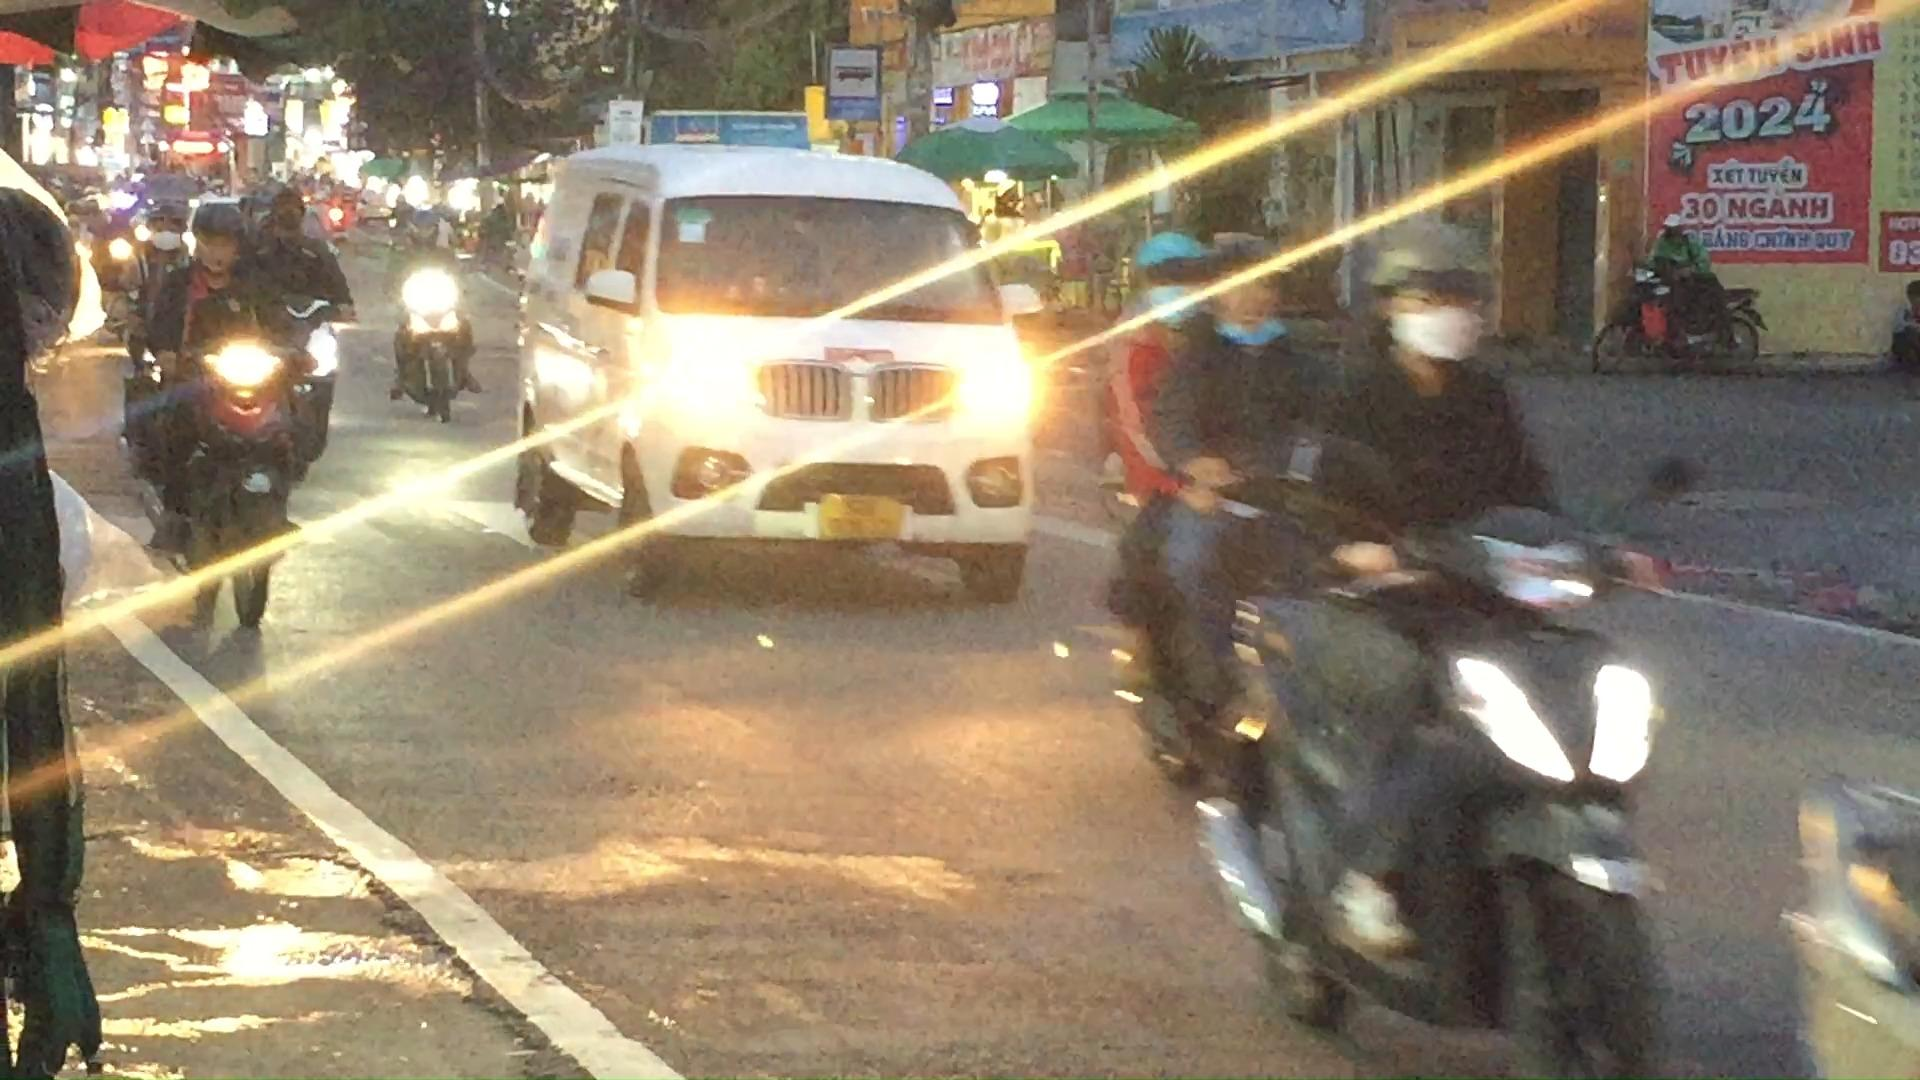bien_so: (817, 493, 906, 542)
